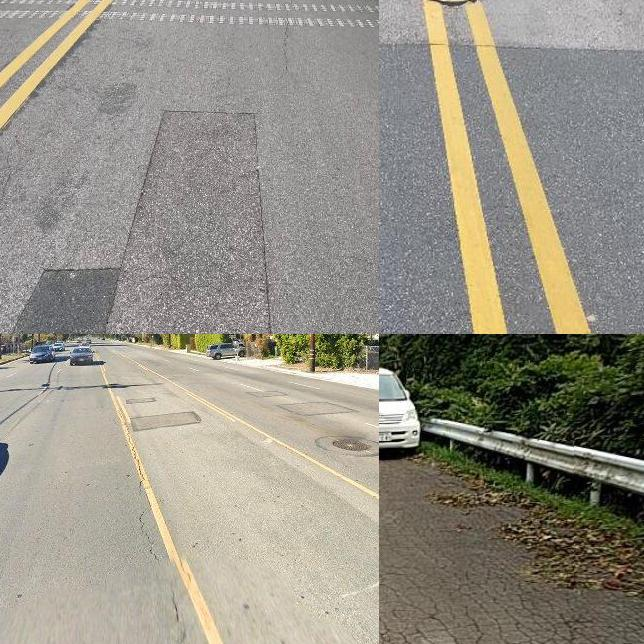Sambungan: (379, 47, 644, 334), (8, 109, 274, 334), (128, 408, 203, 435)
